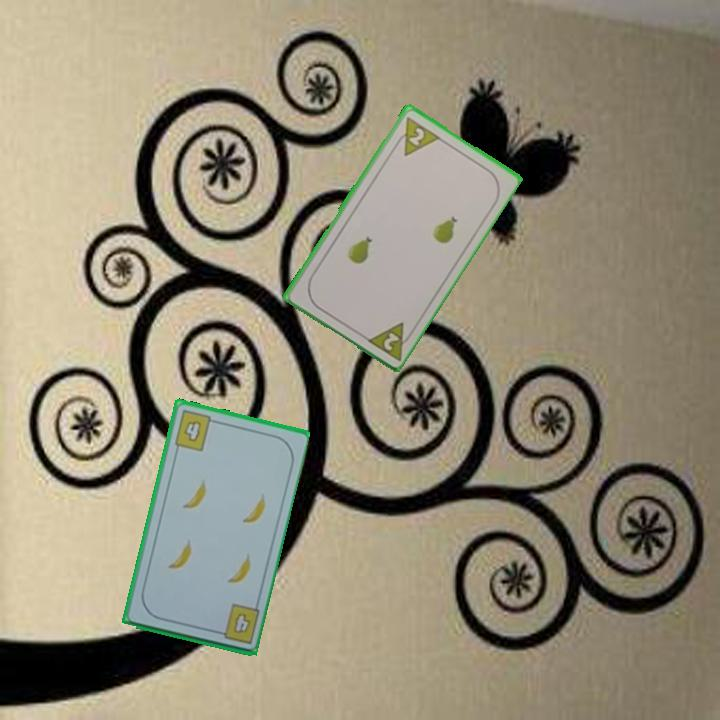2p: (362, 317, 416, 362), (390, 113, 442, 159)
4b: (211, 600, 262, 647), (171, 406, 220, 454)
